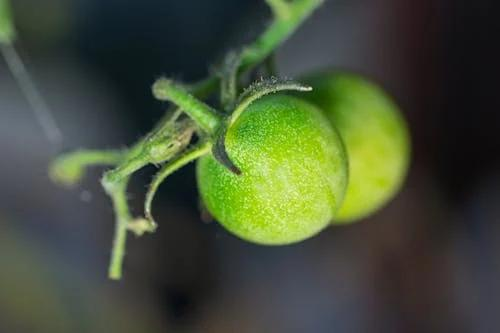Mengkal: (184, 82, 352, 243), (295, 68, 413, 237)
